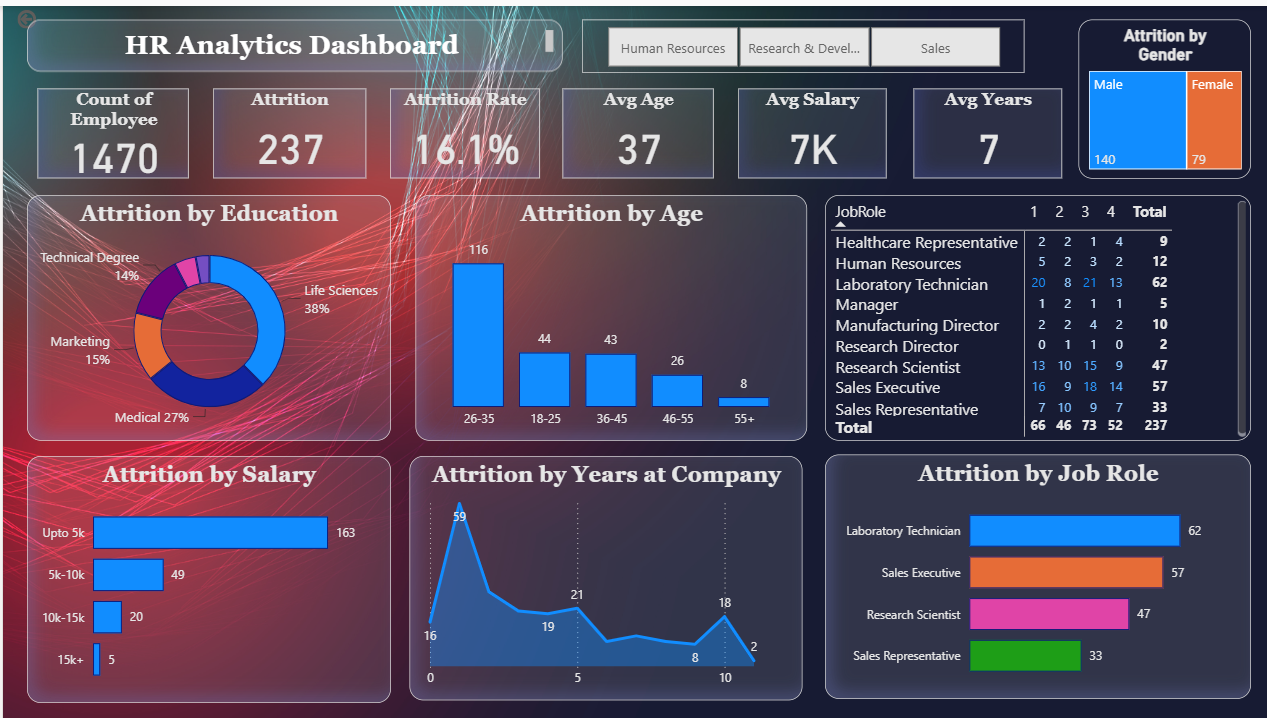

This screenshot's page, from the dashboard's own definition file:
{"tool":"powerbi","page":{"name":"Page 1","canvas":[1280,720],"ordinal":0},"visuals":[{"type":"card","title":"Count of Employee","fields":{"Values":["CountNonNull(HR_Analytics.EmpID)"]},"box":[34.8,83.3,152.9,90.9],"z":0},{"type":"card","title":"Attrition","fields":{"Values":["Sum(HR_Analytics.AttritionCount)"]},"box":[212,83.3,154.4,90.9],"z":1000},{"type":"card","title":"Attrition Rate","fields":{"Values":["HR_Analytics.AttritionRate"]},"box":[390.7,83.3,151.4,90.9],"z":2000},{"type":"card","title":"Avg Age","fields":{"Values":["Avg(HR_Analytics.Age)"]},"box":[564.8,83.3,152.9,90.9],"z":3000},{"type":"actionButton","box":[10.1,0,100.8,26.9],"z":4000},{"type":"card","title":"Avg Salary","fields":{"Values":["Avg(HR_Analytics.MonthlyIncome)"]},"box":[742,83.3,149.9,90.9],"z":5000},{"type":"card","title":"Avg Years","fields":{"Values":["Avg(HR_Analytics.YearsAtCompany)"]},"box":[919.1,83.3,149.9,90.9],"z":6000},{"type":"donutChart","title":"Attrition by Education","fields":{"Category":["HR_Analytics.EducationField","HR_Analytics.YearsAtCompany"],"Y":["Sum(HR_Analytics.AttritionCount)"]},"box":[24.1,191.3,367.1,248],"z":7000},{"type":"columnChart","title":"Attrition by Age","fields":{"Category":["HR_Analytics.AgeGroup"],"Y":["Sum(HR_Analytics.AttritionCount)"]},"box":[416.4,190.8,395.2,248.3],"z":8000},{"type":"pivotTable","fields":{"Columns":["HR_Analytics.JobSatisfaction"],"Rows":["HR_Analytics.JobRole"],"Values":["Sum(HR_Analytics.AttritionCount)"]},"box":[829.8,190.8,430,248.3],"z":9000},{"type":"barChart","title":"Attrition by Salary","fields":{"Category":["HR_Analytics.SalarySlab"],"Y":["Sum(HR_Analytics.AttritionCount)"]},"box":[24.1,453.5,367.1,249.4],"z":10000},{"type":"barChart","title":"Attrition by Job Role","fields":{"Category":["HR_Analytics.JobRole"],"Y":["Sum(HR_Analytics.AttritionCount)"]},"box":[829.8,452.7,430,246.8],"z":11000},{"type":"areaChart","title":"Attrition by Years at Company","fields":{"Category":["HR_Analytics.YearsAtCompany"],"Y":["Sum(HR_Analytics.AttritionCount)"]},"box":[411,453.5,396.9,246.6],"z":12000},{"type":"treemap","title":"Attrition by Gender","fields":{"Group":["HR_Analytics.Gender"],"Values":["Sum(HR_Analytics.AttritionCount)"]},"box":[1085.7,13.6,174.1,160.5],"z":13000},{"type":"slicer","fields":{"Values":["HR_Analytics.Department"]},"box":[584.2,14.1,447,53.8],"z":14000},{"type":"textbox","box":[24.2,13.6,540.6,53],"z":15000}]}

Visuals, with their boxes in screenshot pixels (x1, y1, x2, y2), scaled from the page's 1280x720 canvas onto the 1267x718 screenshot:
"Count of Employee" card: detection(34, 83, 186, 174)
"Attrition" card: detection(210, 83, 363, 174)
"Attrition Rate" card: detection(387, 83, 537, 174)
"Avg Age" card: detection(559, 83, 710, 174)
actionButton: detection(10, 0, 110, 27)
"Avg Salary" card: detection(734, 83, 883, 174)
"Avg Years" card: detection(910, 83, 1058, 174)
"Attrition by Education" donutChart: detection(24, 191, 387, 438)
"Attrition by Age" columnChart: detection(412, 190, 803, 438)
pivotTable - HR_Analytics.JobSatisfaction x HR_Analytics.JobRole: detection(821, 190, 1247, 438)
"Attrition by Salary" barChart: detection(24, 452, 387, 701)
"Attrition by Job Role" barChart: detection(821, 451, 1247, 698)
"Attrition by Years at Company" areaChart: detection(407, 452, 800, 698)
"Attrition by Gender" treemap: detection(1075, 14, 1247, 174)
slicer - HR_Analytics.Department: detection(578, 14, 1021, 68)
textbox: detection(24, 14, 559, 66)
